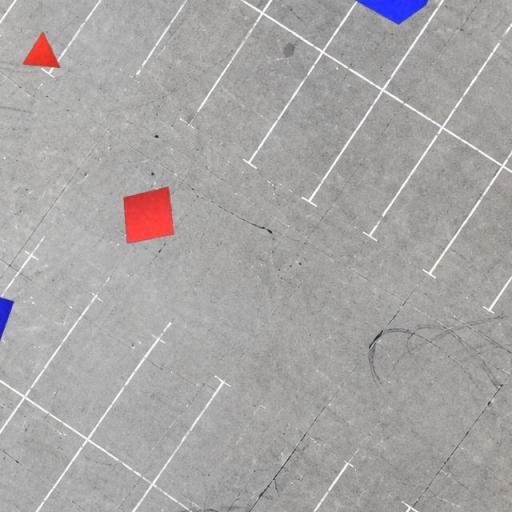RED_SQUARE: (122, 186, 174, 244)
